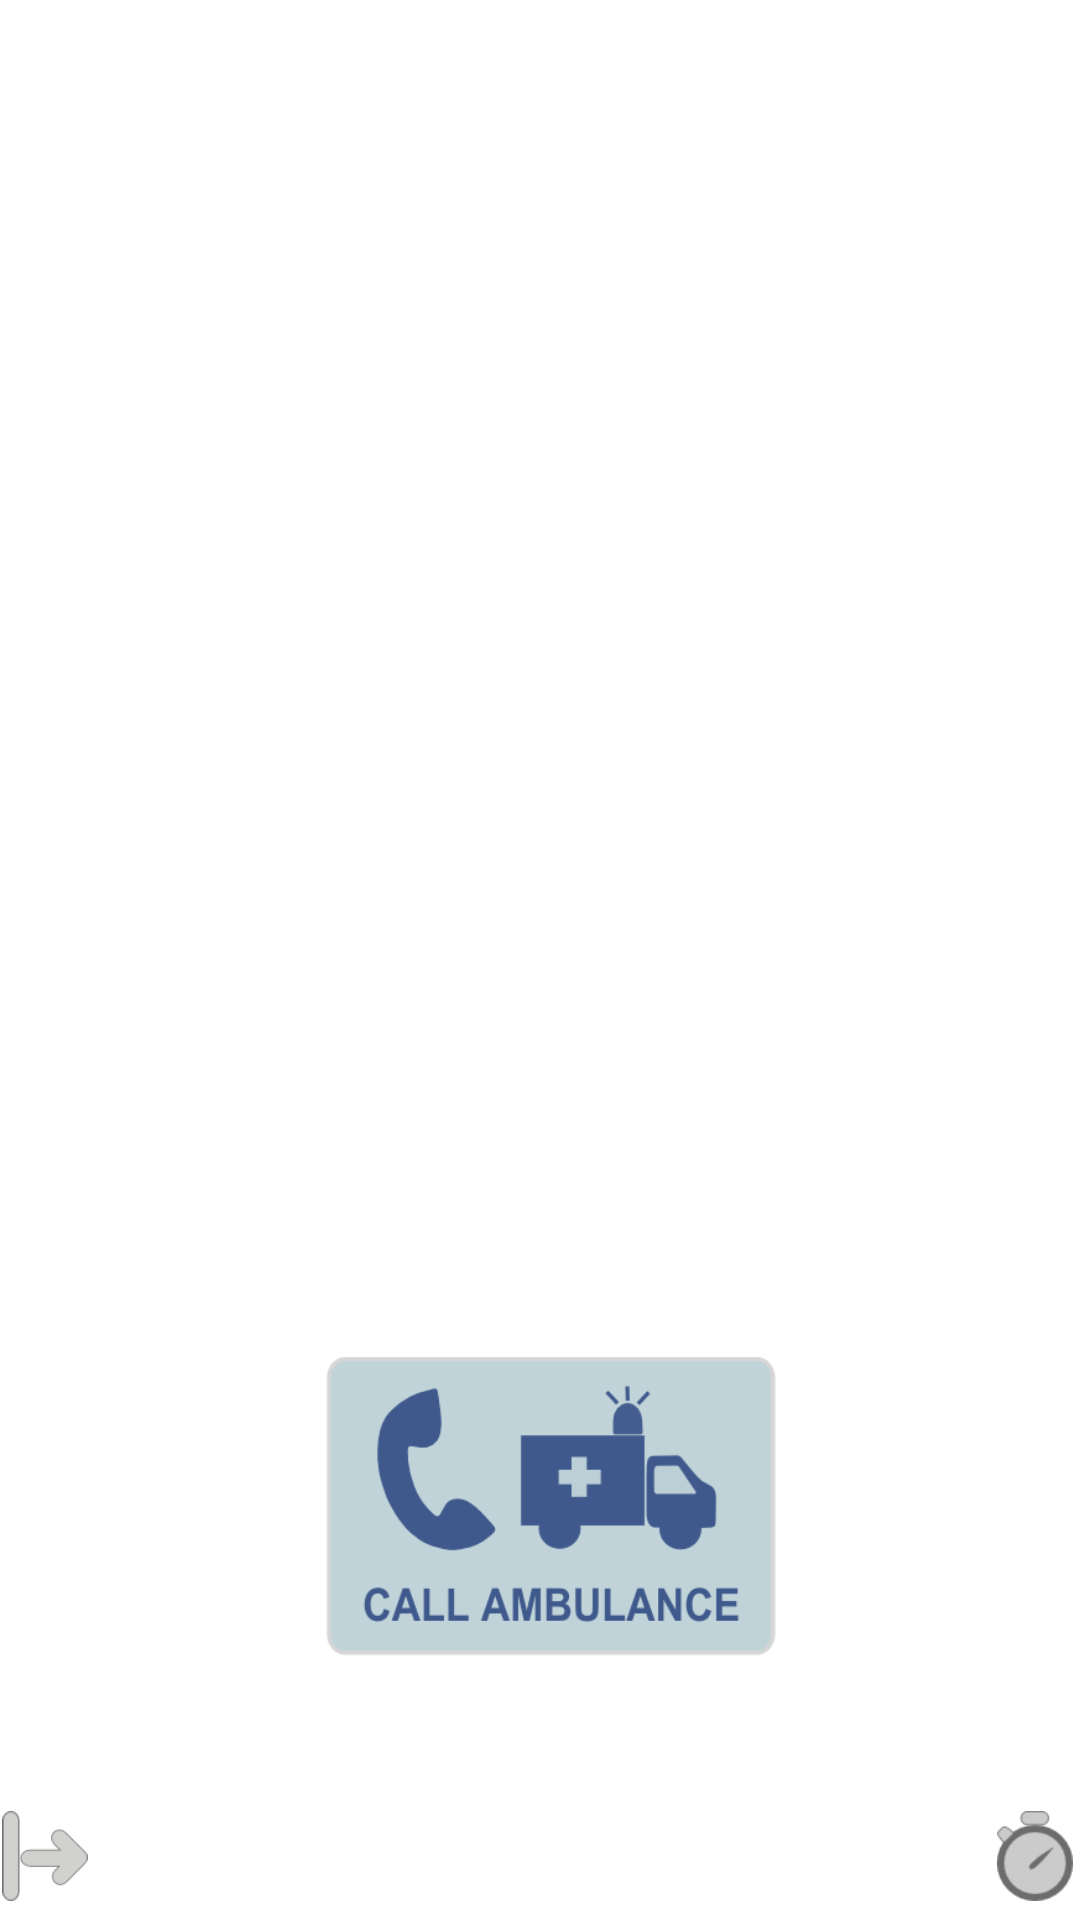

Screen size 1080×1920. Icon name, then its box in pixels as (x1, y1, x2, y2):
start: (2, 1811, 88, 1901)
stop watch: (997, 1811, 1073, 1901)
